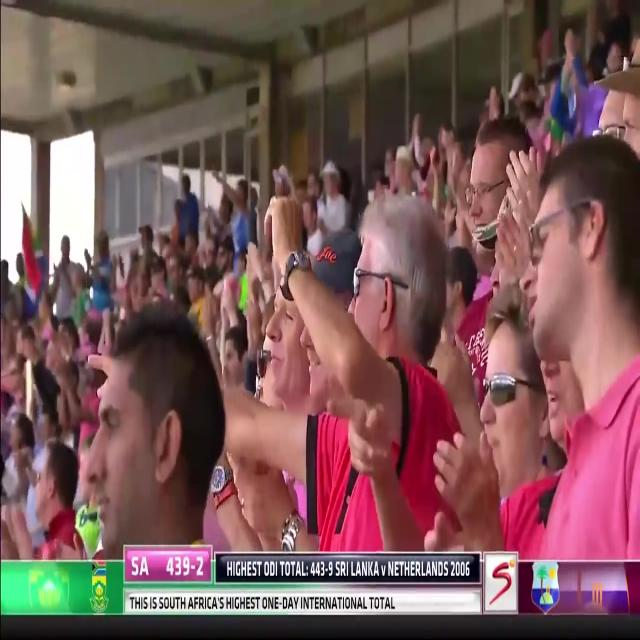Ball: (385, 40, 624, 554)
